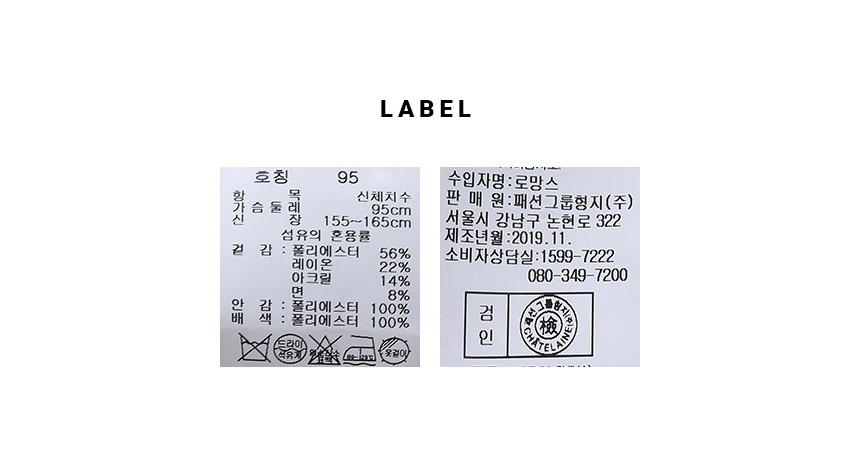KR_dry_clean_petroleum: (273, 331, 308, 365)
KR_hang_dry_in_shade: (378, 333, 414, 367)
KR_iron_low_temp_with_cloth: (342, 332, 378, 366)
KR_no_bleach: (308, 334, 342, 366)
KR_no_wash: (236, 330, 271, 366)
